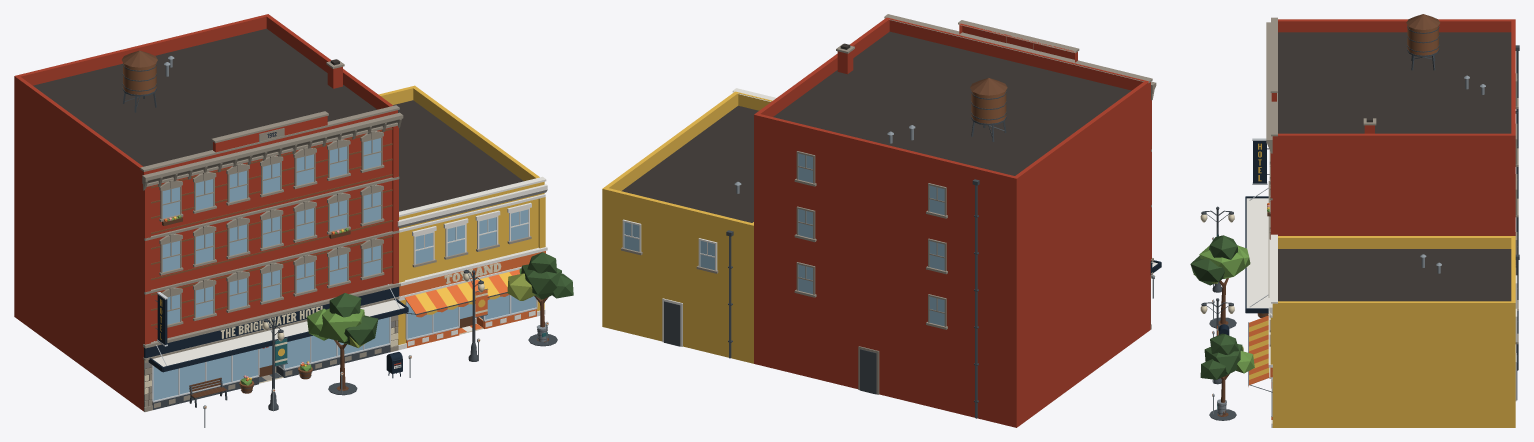
The model's file is Lobby_BlockHotel.fbx.
The picture shows the model from 3 angles, left to right: view 1: azimuth 30°, elevation 25°; view 2: azimuth 150°, elevation 25°; view 3: azimuth 270°, elevation 25°; orthographic projection. The views are drawn at different scales.
Visible parts, largest first — view 1: Decor, Decor2, DecorGlassSkyblue__, DecorGlassSkyblue; view 2: Decor, Decor2, DecorGlassSkyblue__; view 3: Decor2, Decor.
Boxes of the visible parts, <box> form: Decor: <box>14,14,407,427</box>; Decor2: <box>266,15,573,395</box>; DecorGlassSkyblue__: <box>162,138,528,324</box>; DecorGlassSkyblue: <box>153,295,535,400</box>; Decor: <box>754,14,1161,427</box>; Decor2: <box>602,17,962,363</box>; DecorGlassSkyblue__: <box>624,153,944,326</box>; Decor2: <box>1190,91,1519,427</box>; Decor: <box>1201,14,1519,317</box>.
Size of the model in its own units: 82.65 by 55.52 by 62.32.
